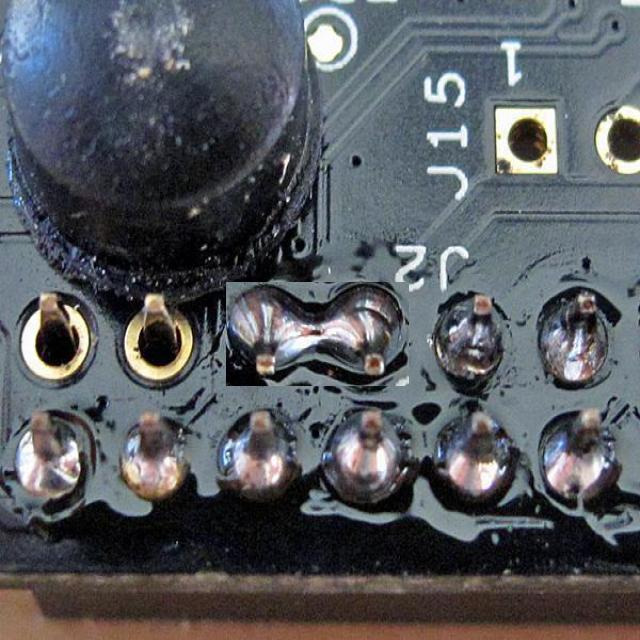Short_circuit: (226, 282, 409, 386)
